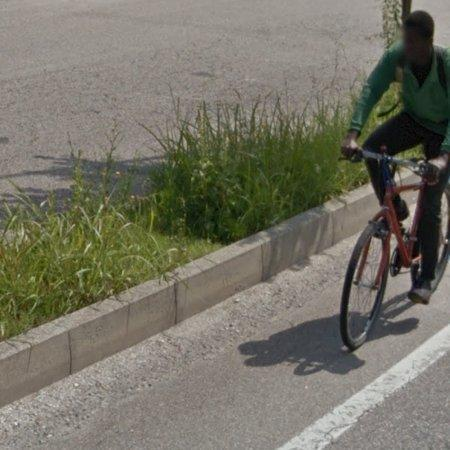bicycles: (341, 150, 430, 351), (430, 185, 450, 298)
